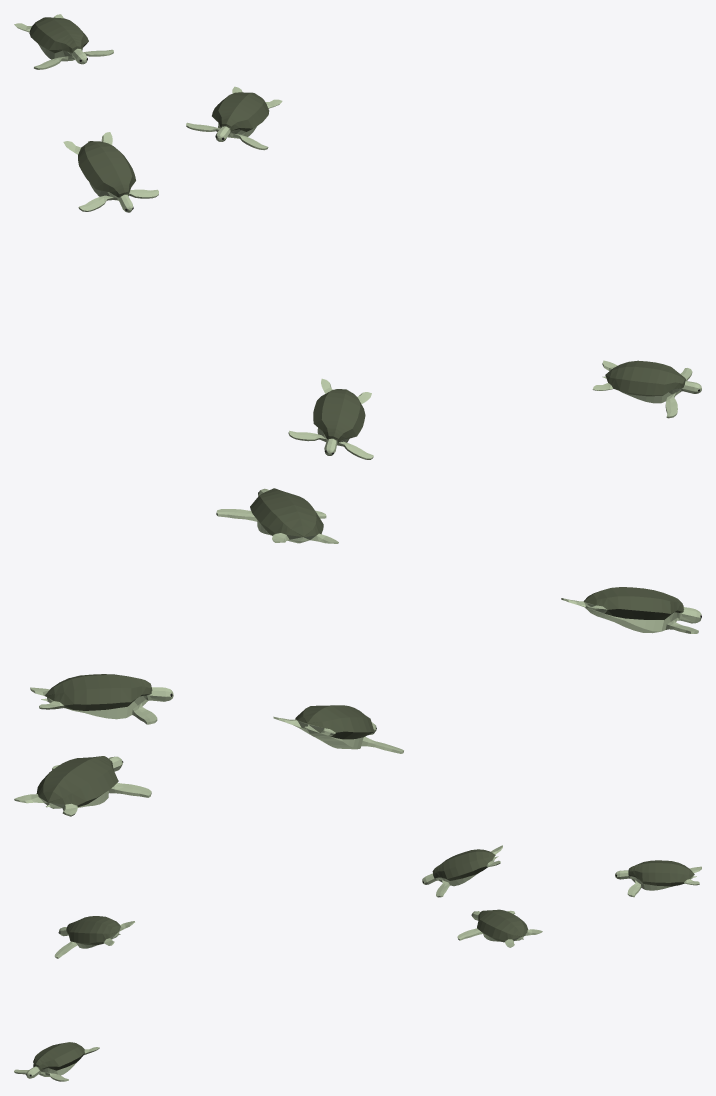
File: baby_turtle.glb
3 views of the same model, one above another, from view 1: azimuth 30°, elevation 25°; view 2: azimuth 150°, elevation 25°; view 3: azimuth 270°, elevation 25° (orthographic). The views are drawn at different scales.
Visible parts, largest first — view 1: Turtle_geo (×5); view 2: Turtle_geo (×5); view 3: Turtle_geo (×5).
Part boxes in pixels (x1=…): Turtle_geo (×5): x1=14, y1=14, x2=701, y2=459; Turtle_geo (×5): x1=14, y1=488, x2=701, y2=816; Turtle_geo (×5): x1=14, y1=845, x2=701, y2=1081.
Bounding box in the file's own units: 1.74 × 0.67 × 3.34.
10 materials, 10 textured.
